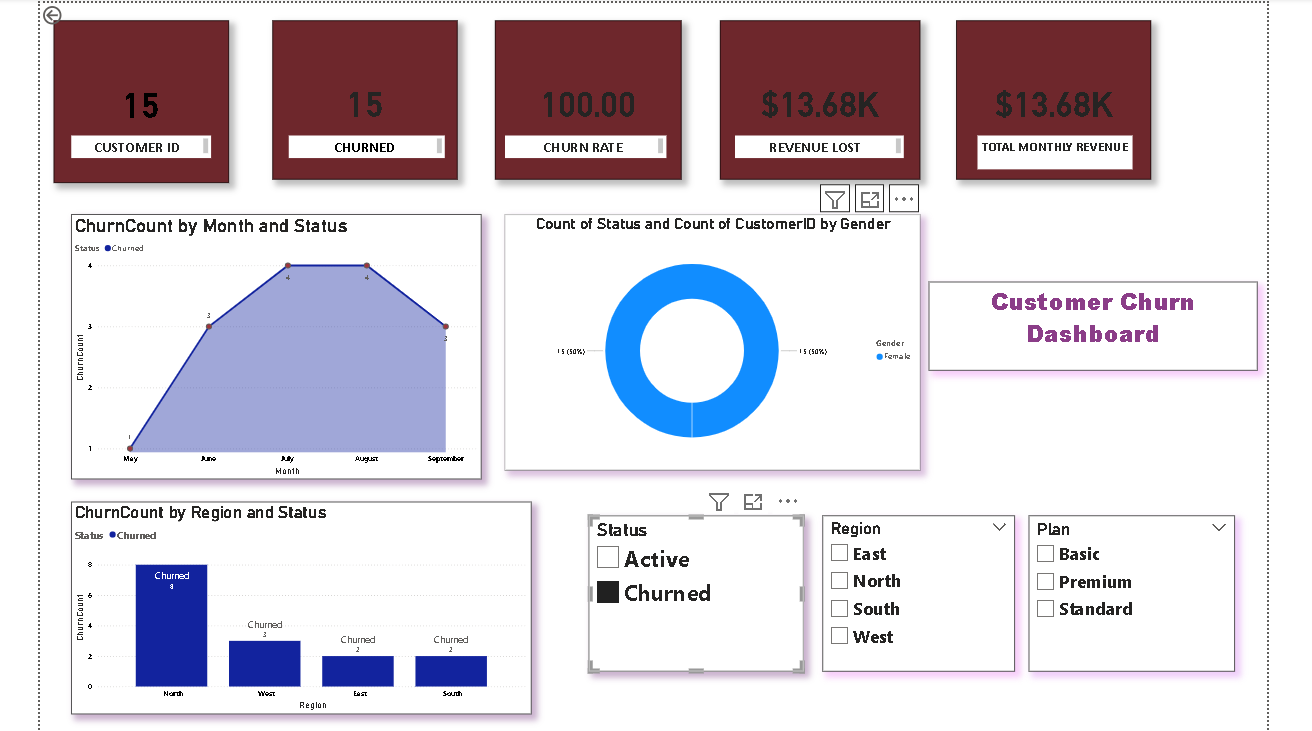

The page's visual inventory and layout, read from the dashboard file:
{"tool":"powerbi","page":{"name":"Page 1","canvas":[2000,1200],"ordinal":0},"visuals":[{"type":"card","fields":{"Values":["Count(Sheet1.CustomerID)"]},"box":[22.4,28.5,285.3,264.9],"z":0},{"type":"card","fields":{"Values":["Count(Sheet1.CustomerID)"]},"box":[379.1,28.5,301.6,258.8],"z":1000},{"type":"actionButton","box":[0,0,100,40],"z":2000},{"type":"card","fields":{"Values":["Sheet1.ChurnRate"]},"box":[741.9,28.5,303.7,258.8],"z":3000},{"type":"card","fields":{"Values":["Sheet1.TotalMonthlyRevenue"]},"box":[1493.9,28.5,317.9,258.8],"z":4000},{"type":"card","fields":{"Values":["Sheet1.RevenueLost"]},"box":[1108.7,28.5,326.1,258.8],"z":5000},{"type":"lineChart","fields":{"Category":["Sheet1.ChurnDate.Variation.Date Hierarchy.Month"],"Y":["Sheet1.ChurnCount"],"Series":["Sheet1.Status"]},"box":[51,344.4,668.5,432.1],"z":6000},{"type":"columnChart","fields":{"Category":["Sheet1.Region"],"Y":["Sheet1.ChurnCount"],"Series":["Sheet1.Status"]},"box":[51,813.2,750,346.5],"z":7000},{"type":"donutChart","fields":{"Category":["Sheet1.Gender"],"Y":["CountNonNull(Sheet1.Status)","CountNonNull(Sheet1.CustomerID)"]},"box":[758.2,344.4,676.6,417.8],"z":8000},{"type":"slicer","fields":{"Values":["Sheet1.Plan"]},"box":[1612.1,835.6,336.3,254.8],"z":9000},{"type":"slicer","fields":{"Values":["Sheet1.Region"]},"box":[1275.8,835.6,313.9,254.8],"z":10000},{"type":"slicer","fields":{"Values":["Sheet1.Status"]},"box":[894.7,835.6,350.5,254.8],"z":11000},{"type":"textbox","box":[1449.1,454.5,536,144.7],"z":11001}]}

Visuals, with their boxes in screenshot pixels (x1, y1, x2, y2):
card - Count(Sheet1.CustomerID): {"left": 38, "top": 18, "right": 216, "bottom": 183}
card - Count(Sheet1.CustomerID): {"left": 260, "top": 18, "right": 448, "bottom": 179}
actionButton: {"left": 24, "top": 0, "right": 86, "bottom": 25}
card - Sheet1.ChurnRate: {"left": 486, "top": 18, "right": 675, "bottom": 179}
card - Sheet1.TotalMonthlyRevenue: {"left": 955, "top": 18, "right": 1153, "bottom": 179}
card - Sheet1.RevenueLost: {"left": 715, "top": 18, "right": 918, "bottom": 179}
lineChart - Sheet1.ChurnDate.Variation.Date Hierarchy.Month x Sheet1.ChurnCount: {"left": 56, "top": 215, "right": 472, "bottom": 484}
columnChart - Sheet1.Region x Sheet1.ChurnCount: {"left": 56, "top": 507, "right": 523, "bottom": 722}
donutChart - Sheet1.Gender x CountNonNull(Sheet1.Status): {"left": 496, "top": 215, "right": 918, "bottom": 475}
slicer - Sheet1.Plan: {"left": 1028, "top": 521, "right": 1238, "bottom": 679}
slicer - Sheet1.Region: {"left": 819, "top": 521, "right": 1014, "bottom": 679}
slicer - Sheet1.Status: {"left": 581, "top": 521, "right": 800, "bottom": 679}
textbox: {"left": 927, "top": 283, "right": 1261, "bottom": 373}
